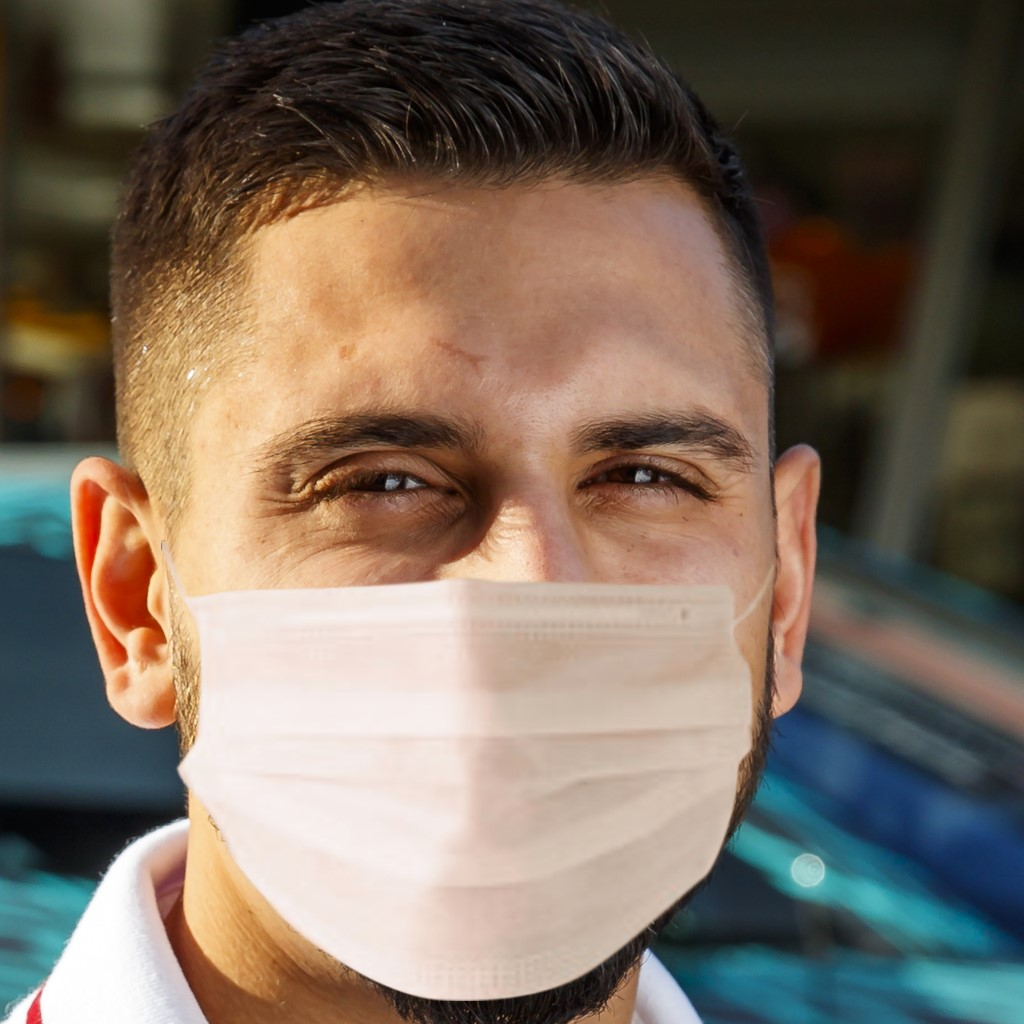con_mascara: (142, 209, 788, 1016)
